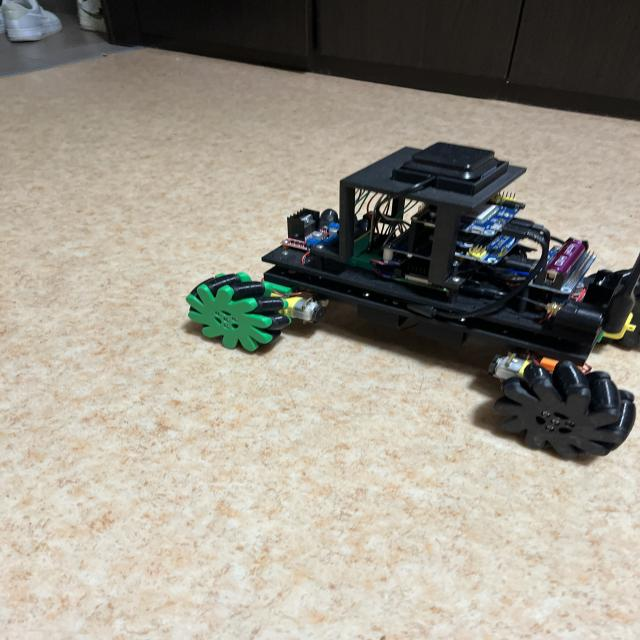robot: (186, 143, 640, 458)
